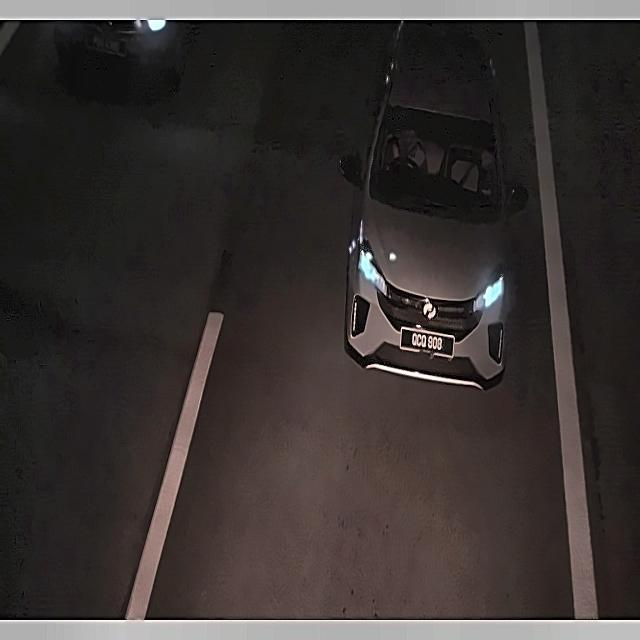car: (399, 320, 458, 363), (81, 30, 130, 58)
